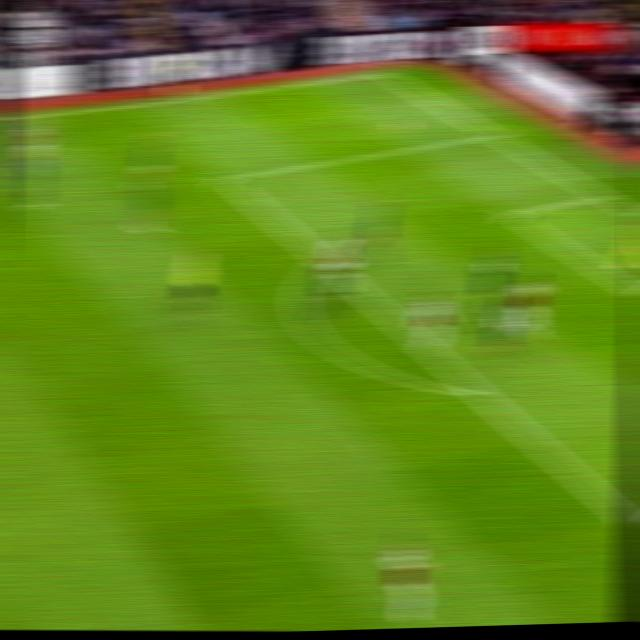bigarea_top_inner: (211, 165, 243, 191)
bigarea_top_outter: (477, 122, 510, 144)
bottom_arc_area_intersection: (459, 374, 497, 406)
corner: (366, 63, 401, 81)
smallarea_top_inner: (496, 200, 529, 226)
smallarea_top_outter: (586, 180, 621, 209)
top_arc_area_intersection: (310, 248, 341, 272)
